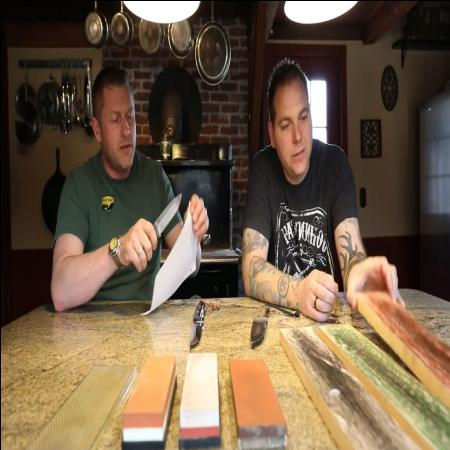long weapon: (126, 182, 184, 268)
